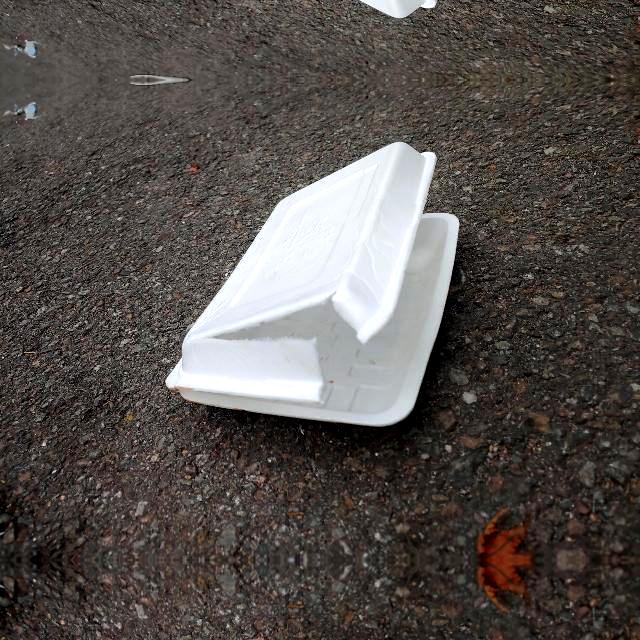Styrofoam: (165, 142, 461, 428), (165, 141, 459, 426)
